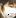with_mask: (1, 2, 16, 18)
